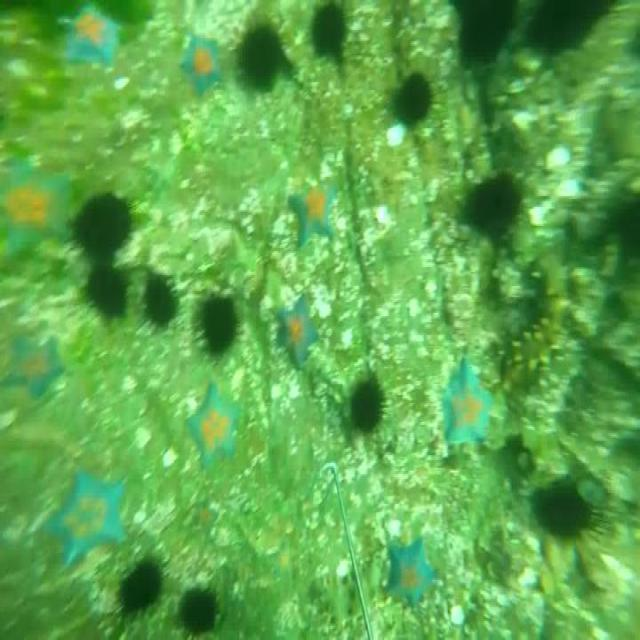echinus: (450, 0, 519, 74), (532, 479, 604, 545), (467, 168, 526, 240), (527, 3, 611, 52), (72, 188, 132, 253), (237, 19, 283, 90), (117, 555, 163, 613), (85, 264, 127, 321), (310, 0, 348, 62), (196, 297, 238, 351), (607, 193, 640, 261), (348, 376, 388, 432), (178, 584, 218, 634), (399, 74, 432, 125), (147, 268, 176, 326)
holothurian: (501, 259, 571, 390)
scallop: (542, 144, 570, 172), (448, 602, 465, 627), (556, 180, 578, 199), (161, 448, 178, 470), (386, 124, 402, 146), (136, 428, 151, 451), (122, 376, 138, 389)
starfish: (42, 468, 130, 577), (0, 159, 68, 264), (438, 359, 492, 458), (185, 382, 240, 472), (2, 334, 65, 398), (388, 539, 434, 611), (61, 6, 120, 62), (277, 299, 319, 373), (287, 186, 335, 245), (177, 34, 219, 96)
